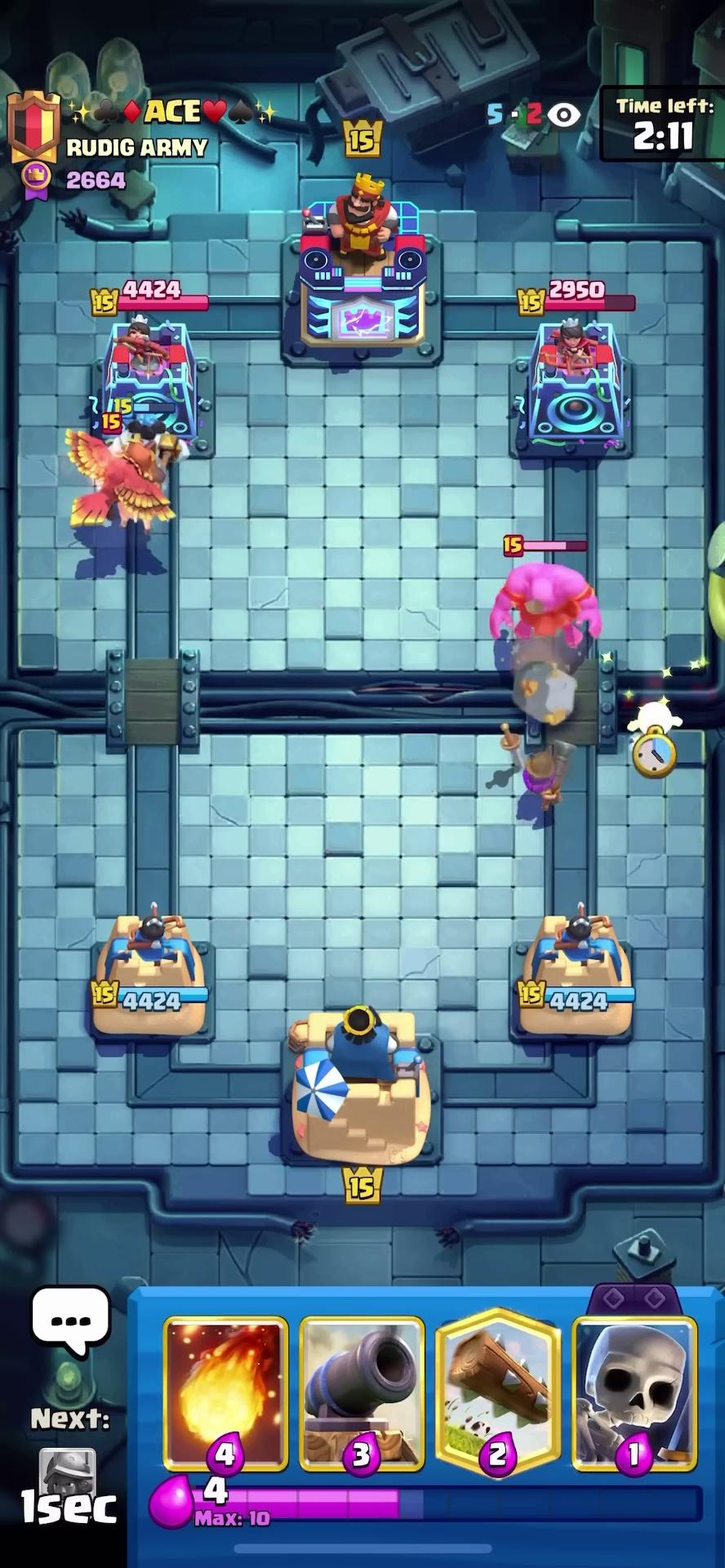ice_golem: (106, 406, 186, 472)
ice_spirit: (633, 674, 680, 772)
musketeer: (510, 727, 596, 819)
